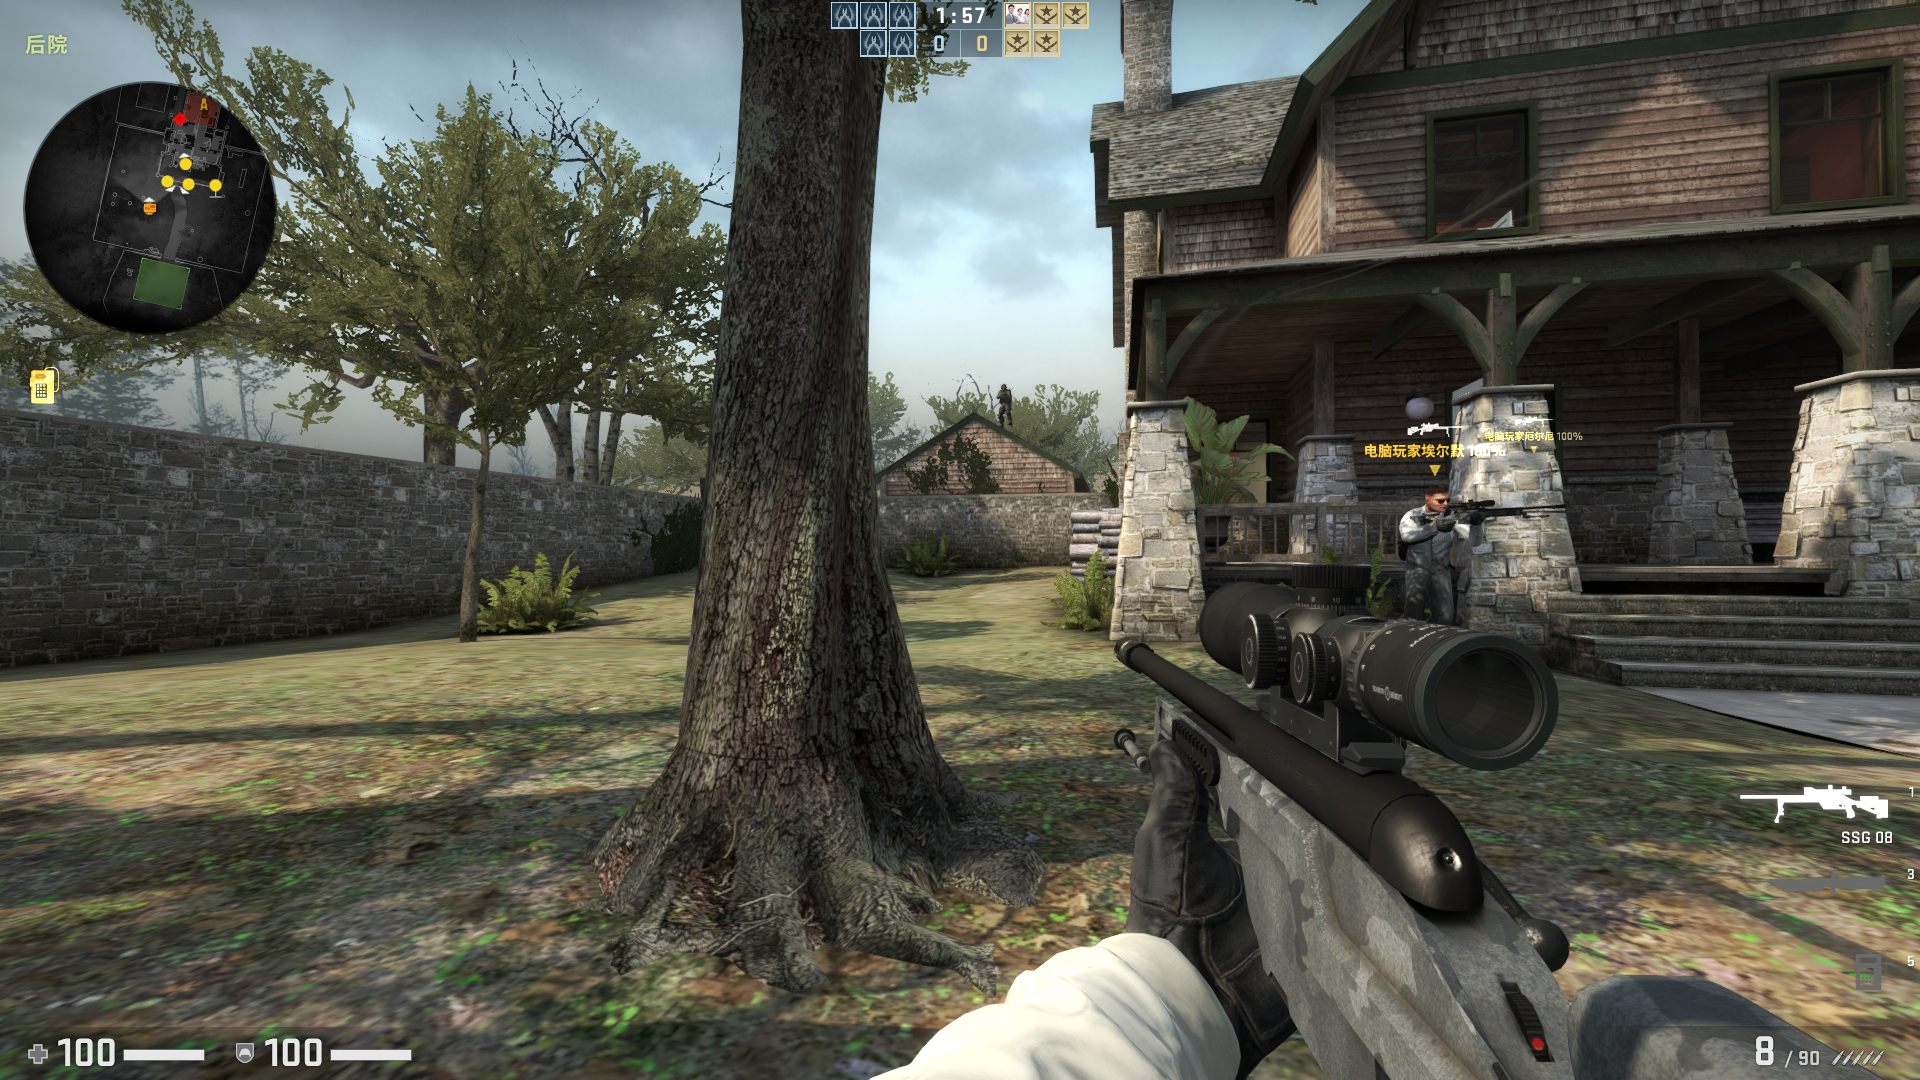person: (1392, 490, 1476, 618), (996, 384, 1016, 429)
